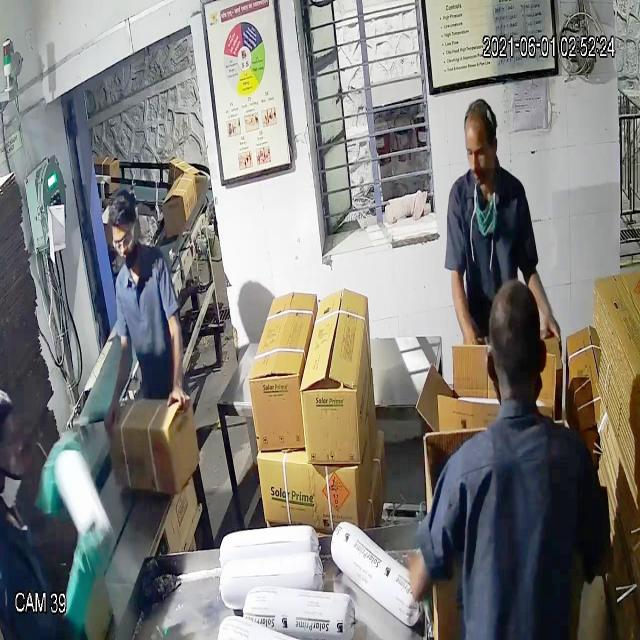glasses: (108, 220, 142, 260)
no-glass: (460, 135, 502, 165)
